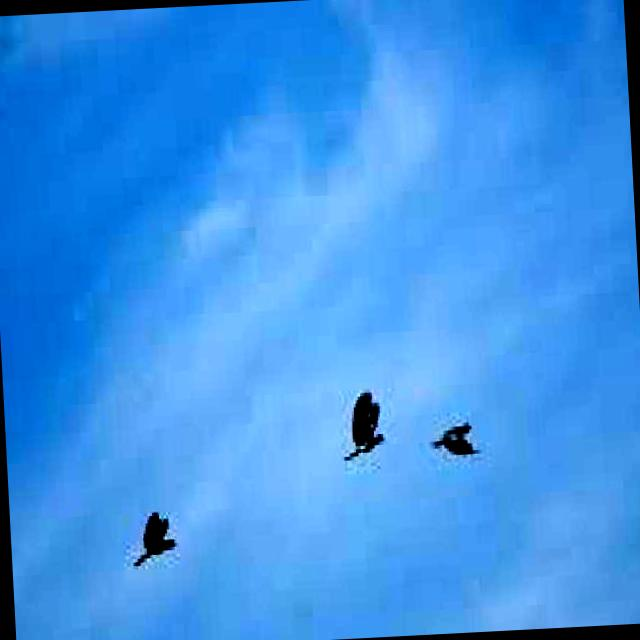bird: (330, 390, 405, 460), (122, 502, 184, 578), (429, 412, 482, 470)
